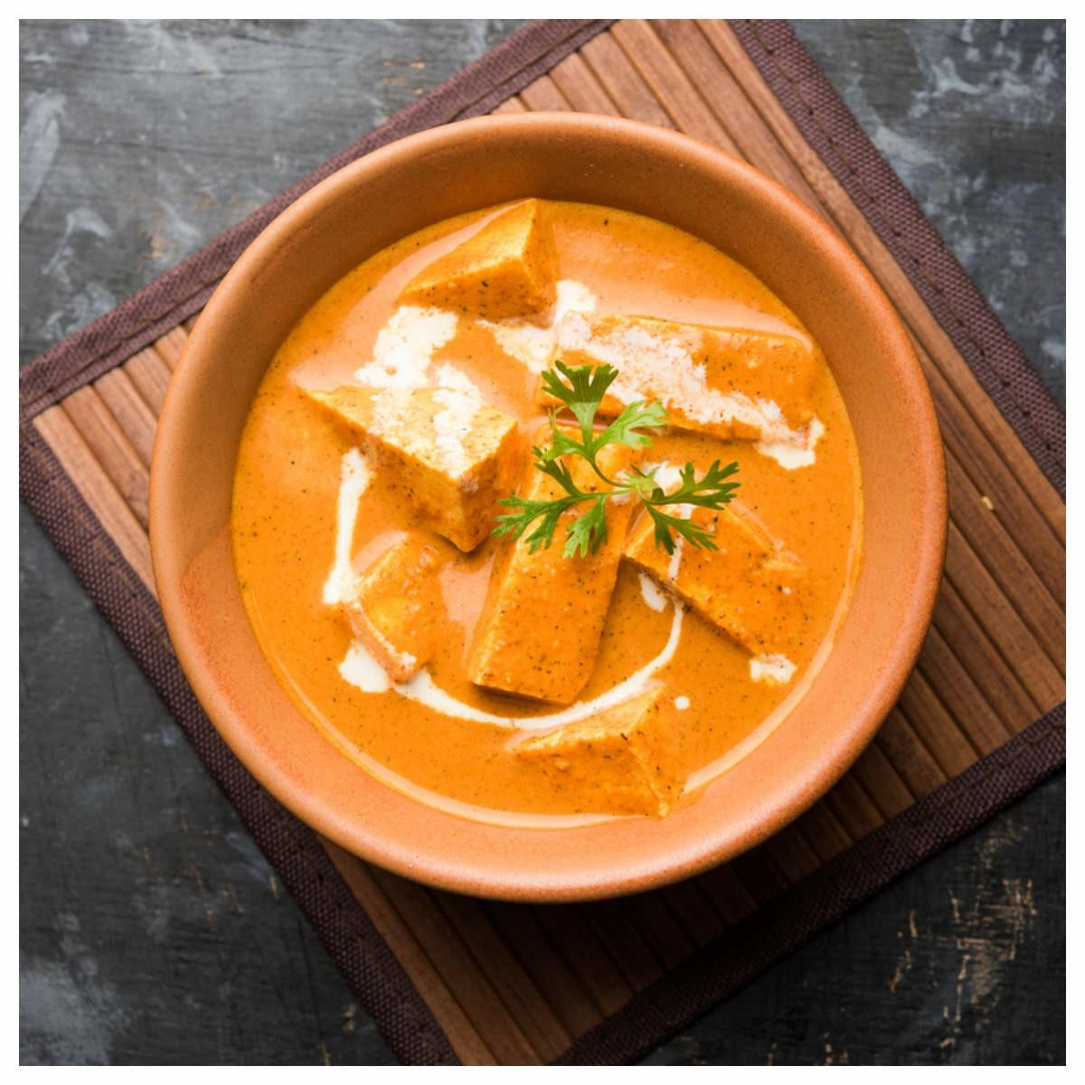ShahiPaneer: (236, 190, 865, 829)
